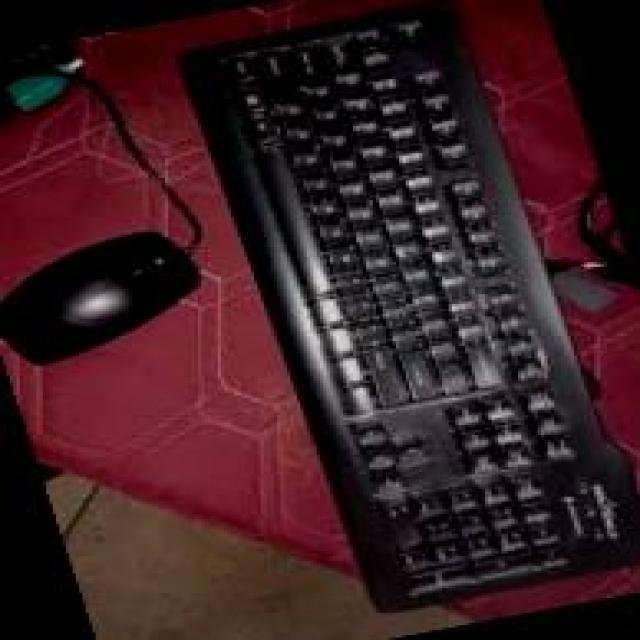keyboard: (188, 22, 640, 613)
mouse: (4, 229, 207, 366)
